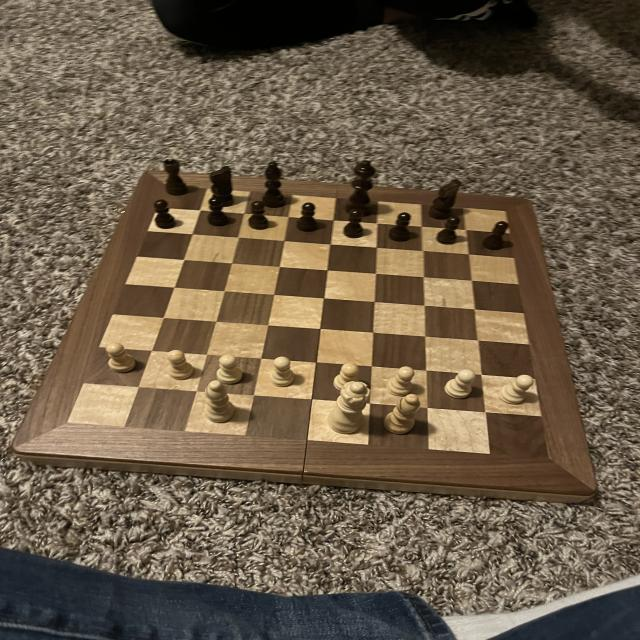bishop: (260, 160, 290, 210)
black-bishop: (342, 159, 377, 220)
black-king: (425, 179, 463, 219), (206, 164, 238, 208)
black-knight: (481, 220, 510, 253), (151, 198, 180, 229), (206, 196, 234, 228), (388, 211, 415, 244), (246, 199, 273, 232), (293, 201, 320, 233), (342, 207, 367, 240), (435, 215, 461, 245)
black-queen: (162, 157, 194, 197)
black-rook: (382, 392, 422, 437), (201, 379, 240, 425)
white-knight: (329, 359, 366, 395), (496, 374, 536, 407), (103, 340, 138, 375), (384, 362, 418, 398), (443, 366, 476, 399), (214, 353, 247, 385), (163, 349, 196, 380), (268, 356, 298, 390)
white-pawn: (328, 378, 374, 435)
